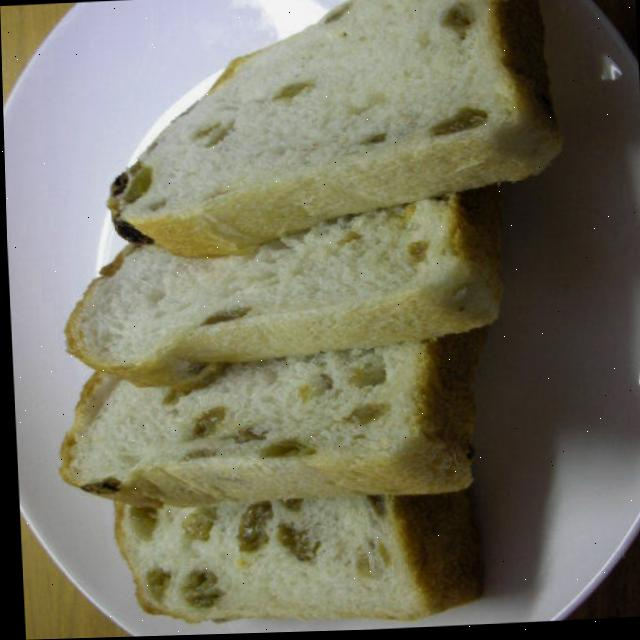面包点心: (23, 0, 565, 639)
